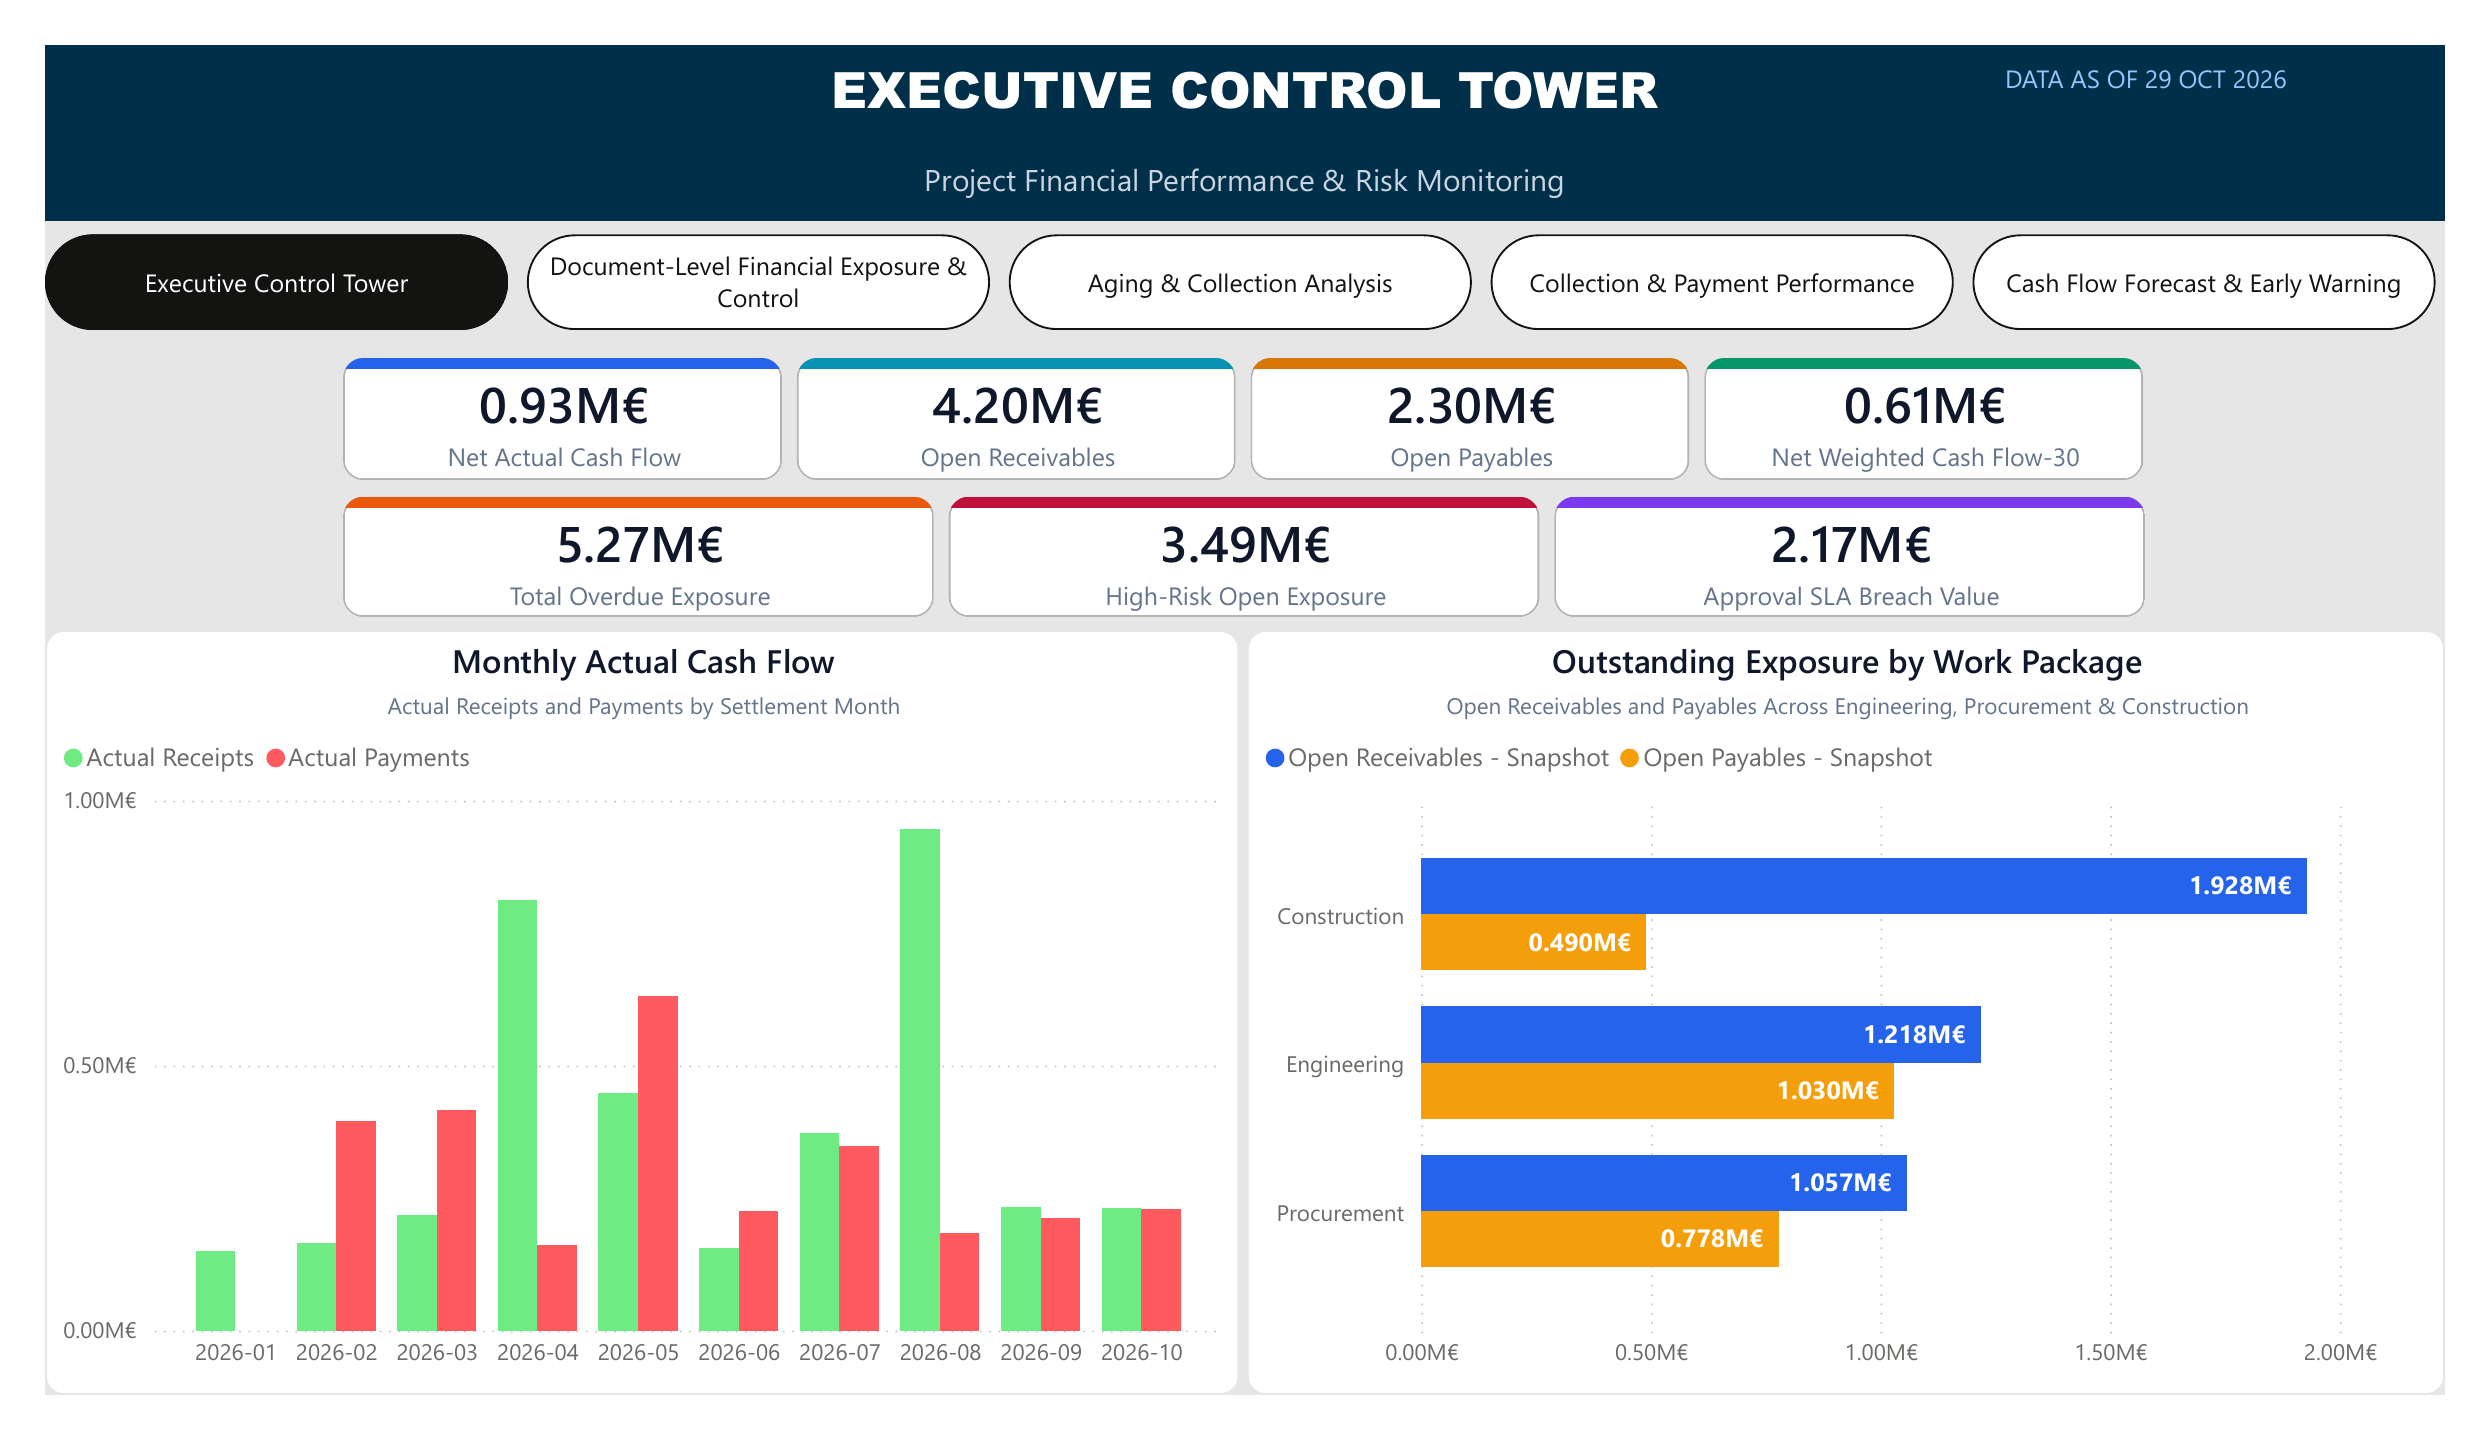

The page's visual inventory and layout, read from the dashboard file:
{"tool":"powerbi","page":{"name":"Executive Control Tower","canvas":[1280,720],"ordinal":0},"visuals":[{"type":"cardVisual","fields":{"Data":["_Measures.Net Actual Cash Flow","_Measures.Open Receivables - Snapshot","_Measures.Open Payables - Snapshot","_Measures.Net Weighted Forecast Cash Flow - 30D"]},"box":[154.5,161.6,970.9,75.1],"z":0},{"type":"cardVisual","fields":{"Data":["_Measures.Total Overdue Exposure","_Measures.High-Risk Open Exposure","_Measures.Approval SLA Breach Value"]},"box":[154.5,236.3,971,74],"z":1000},{"type":"clusteredColumnChart","title":"Monthly Actual Cash Flow","fields":{"Category":["Dim_SettlementDate.YearMonth"],"Y":["_Measures.Actual Receipts","_Measures.Actual Payments"]},"box":[0,312.3,637.4,407.7],"z":2000},{"type":"clusteredBarChart","title":"Outstanding Exposure by Work Package","fields":{"Category":["Dim_Package.PackageName"],"Y":["_Measures.Open Receivables - Snapshot","_Measures.Open Payables - Snapshot"]},"box":[641.3,312.3,638.7,407.7],"z":3000},{"type":"textbox","box":[0,0,1280.2,56.2],"z":4000,"group":"g1"},{"type":"textbox","box":[0,56.2,1280.2,37.4],"z":5000,"group":"g1"},{"type":"pageNavigator","box":[0,100.6,1279.8,51],"z":5000},{"type":"group","id":"g1","title":"Group 1","box":[0,0,1280.2,93.6],"z":7000},{"type":"textbox","box":[960.9,4.3,318.9,46.8],"z":7500}]}

Visuals, with their boxes in screenshot pixels (x1, y1, x2, y2), scaled from the page's 1280x720 canvas onto the 2490x1440 screenshot:
cardVisual - _Measures.Net Actual Cash Flow x _Measures.Open Receivables - Snapshot: detection(301, 323, 2189, 473)
cardVisual - _Measures.Total Overdue Exposure x _Measures.High-Risk Open Exposure: detection(301, 473, 2189, 621)
"Monthly Actual Cash Flow" clusteredColumnChart: detection(0, 625, 1240, 1439)
"Outstanding Exposure by Work Package" clusteredBarChart: detection(1248, 625, 2489, 1439)
textbox: detection(0, 0, 2489, 112)
textbox: detection(0, 112, 2489, 187)
pageNavigator: detection(0, 201, 2489, 303)
"Group 1" group: detection(0, 0, 2489, 187)
textbox: detection(1869, 9, 2489, 102)
